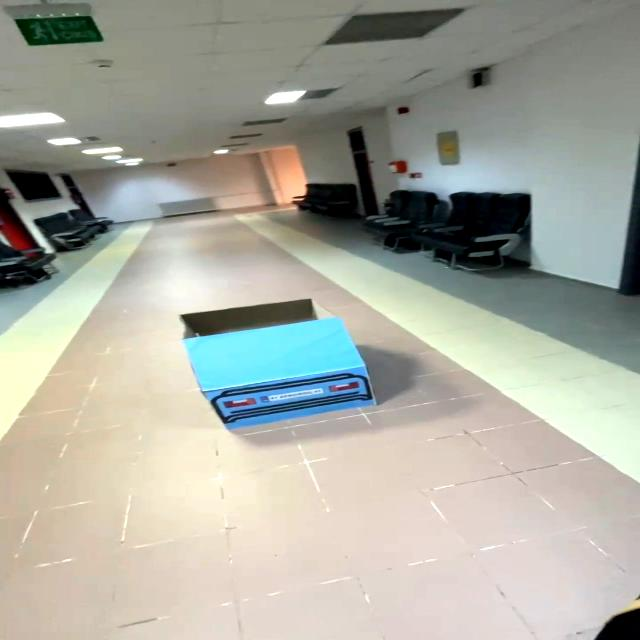blue_car: (169, 292, 385, 438)
